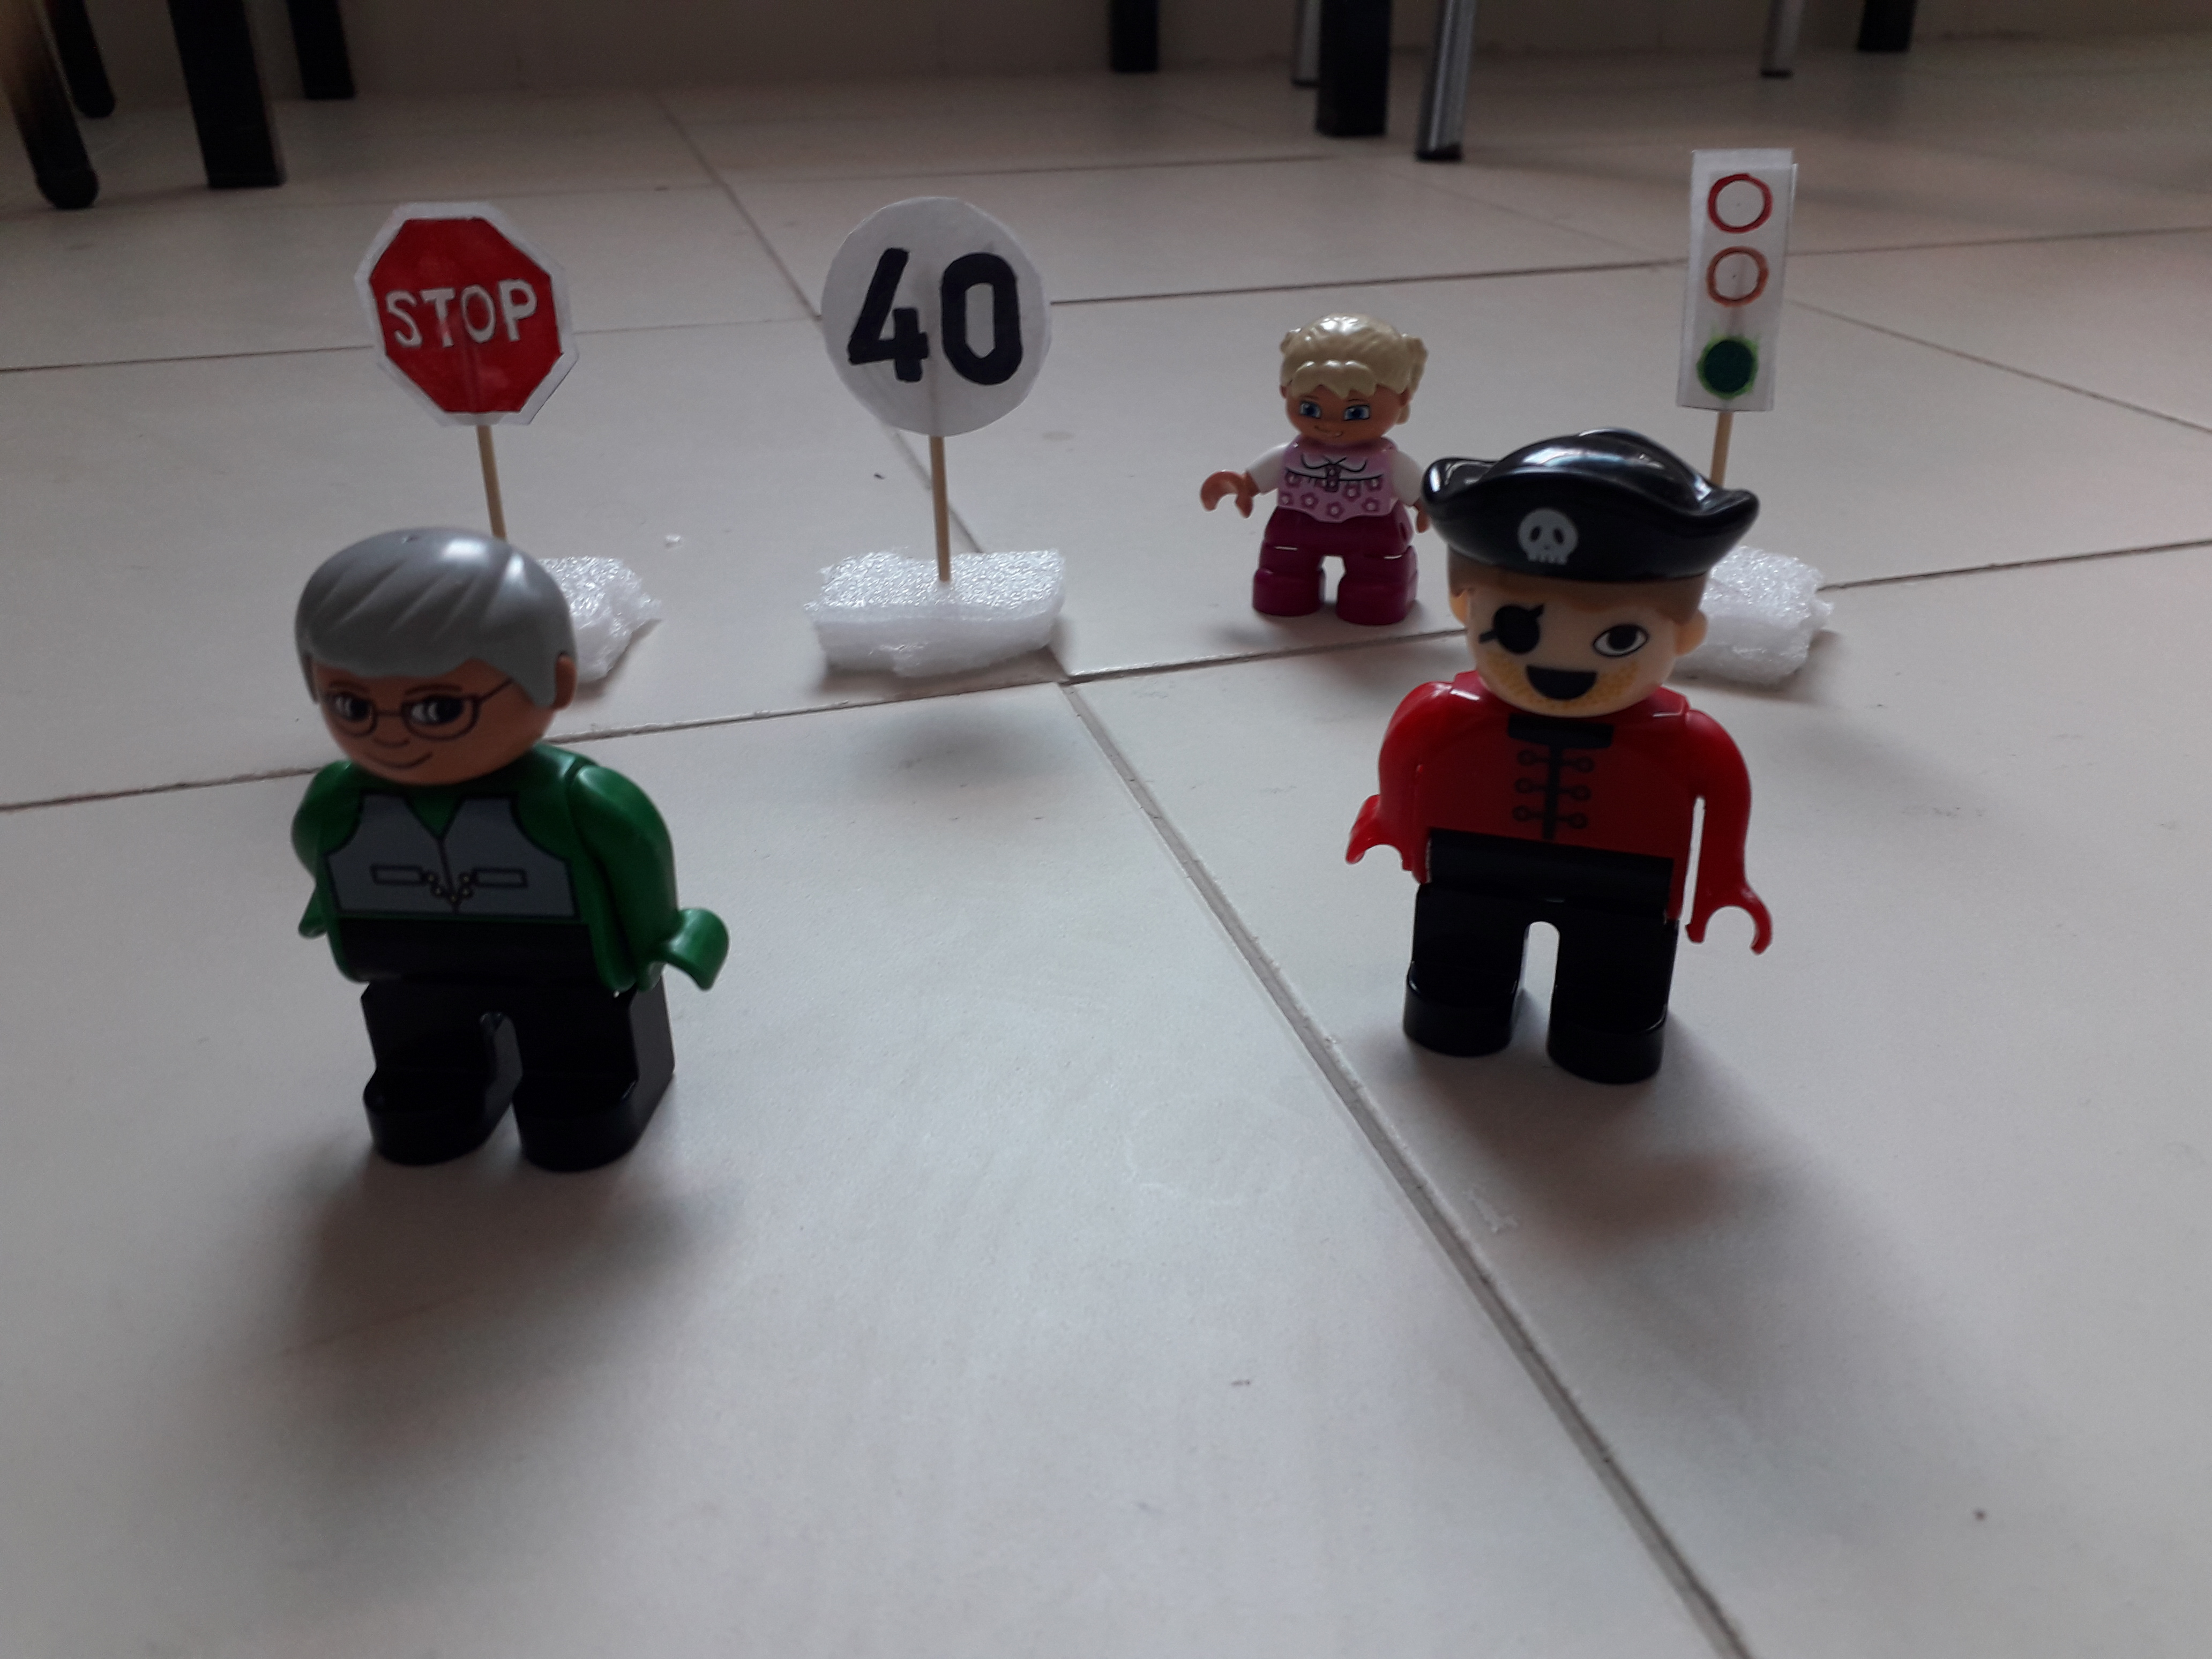40_sign: (821, 193, 1053, 441)
green_light: (1676, 145, 1793, 413)
person: (1365, 423, 1796, 1112), (290, 528, 732, 1179), (1209, 311, 1439, 602)
stop_sign: (344, 199, 587, 431)
